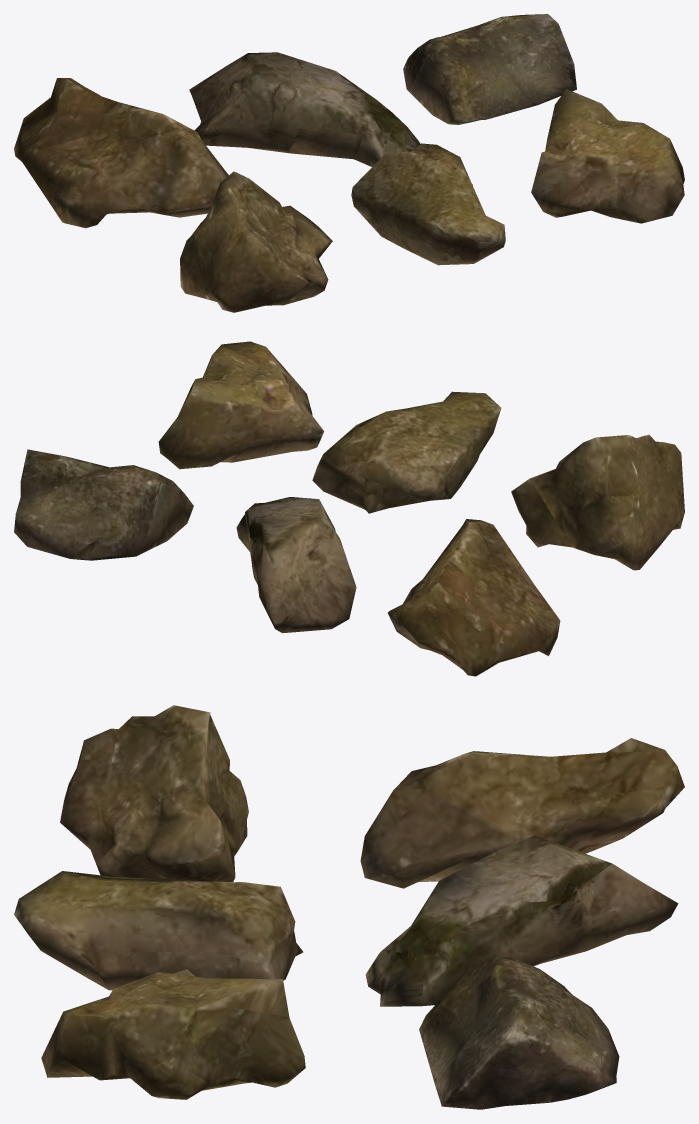
The model's file is mossy_rocks.glb.
3 views of the same model, one above another, from view 1: azimuth 30°, elevation 25°; view 2: azimuth 150°, elevation 25°; view 3: azimuth 270°, elevation 25° (orthographic). The views are drawn at different scales.
Parts seen in each view (by area): view 1: rock_moss_set_01_rock01, rock_moss_set_01_rock02, rock_moss_set_01_rock04, rock_moss_set_01_rock06, rock_moss_set_01_rock03, rock_moss_set_01_rock05; view 2: rock_moss_set_01_rock04, rock_moss_set_01_rock01, rock_moss_set_01_rock03, rock_moss_set_01_rock05, rock_moss_set_01_rock06, rock_moss_set_01_rock02; view 3: rock_moss_set_01_rock01, rock_moss_set_01_rock02, rock_moss_set_01_rock05, rock_moss_set_01_rock04, rock_moss_set_01_rock06, rock_moss_set_01_rock03.
Part boxes in pixels (x1,y1,x2,y2): rock_moss_set_01_rock01: (14, 78, 228, 228); rock_moss_set_01_rock02: (189, 52, 420, 166); rock_moss_set_01_rock04: (180, 171, 332, 312); rock_moss_set_01_rock06: (531, 89, 684, 223); rock_moss_set_01_rock03: (403, 14, 576, 124); rock_moss_set_01_rock05: (351, 143, 505, 265); rock_moss_set_01_rock04: (511, 434, 684, 570); rock_moss_set_01_rock01: (388, 519, 560, 676); rock_moss_set_01_rock03: (14, 449, 193, 560); rock_moss_set_01_rock05: (312, 391, 501, 513); rock_moss_set_01_rock06: (158, 341, 323, 469); rock_moss_set_01_rock02: (236, 497, 356, 633); rock_moss_set_01_rock01: (360, 738, 684, 888); rock_moss_set_01_rock02: (365, 835, 678, 1006); rock_moss_set_01_rock05: (14, 871, 303, 990); rock_moss_set_01_rock04: (60, 705, 248, 881); rock_moss_set_01_rock06: (41, 969, 305, 1099); rock_moss_set_01_rock03: (419, 957, 619, 1109).
Size of the model in its own units: 7.98 by 1.76 by 6.94.
1 material, 1 textured.
